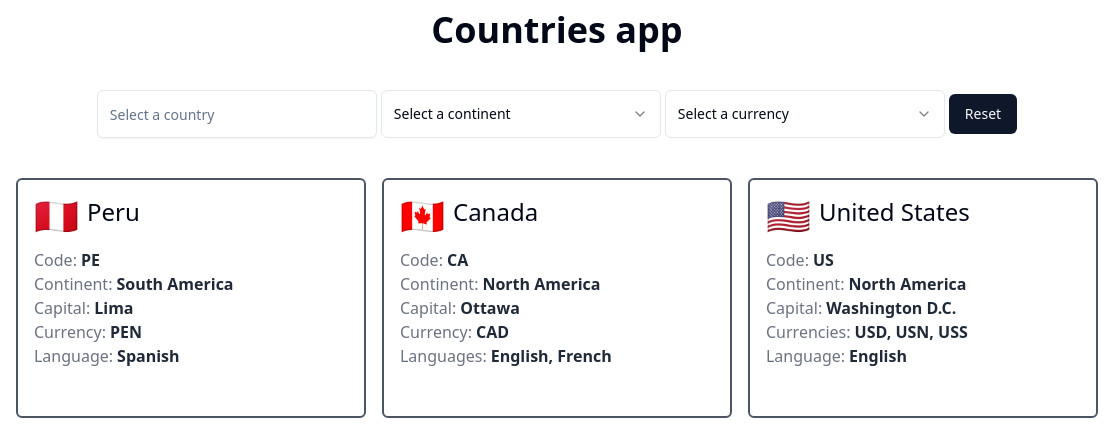
Test: Home component › should render the continent select
This screenshot has width=1115, height=435.
Click the dropdown labelled "Select a continent". click: (452, 114)
box: [381,90,661,138]
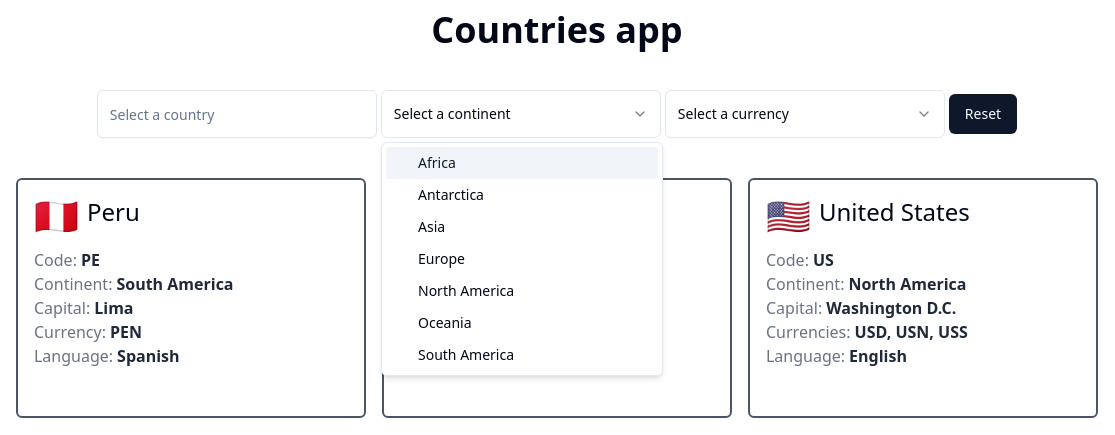
Check: the number of options is 7
Check: the option "North America" is shown
Click the option "North America". click: (466, 290)
box: [418,281,514,300]
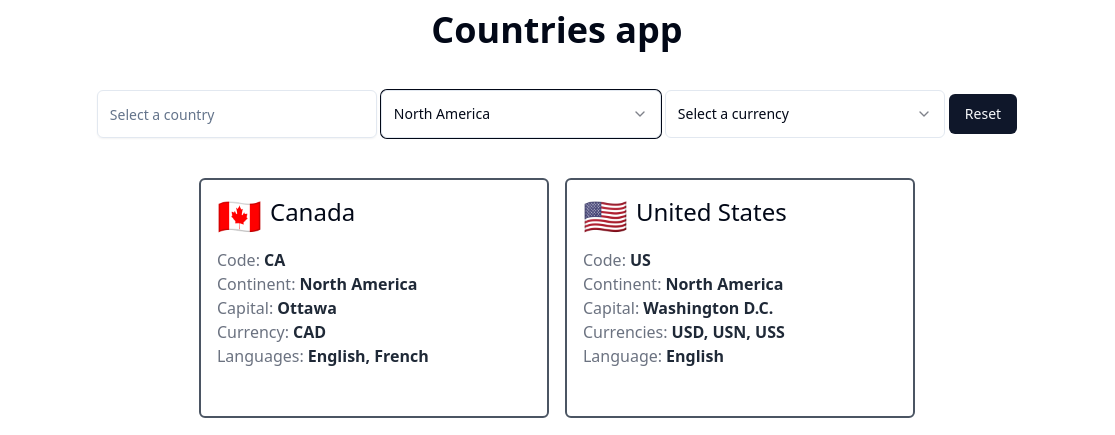
Check: the number of list items is 2, box [199,178,549,418]; [565,178,915,418]
